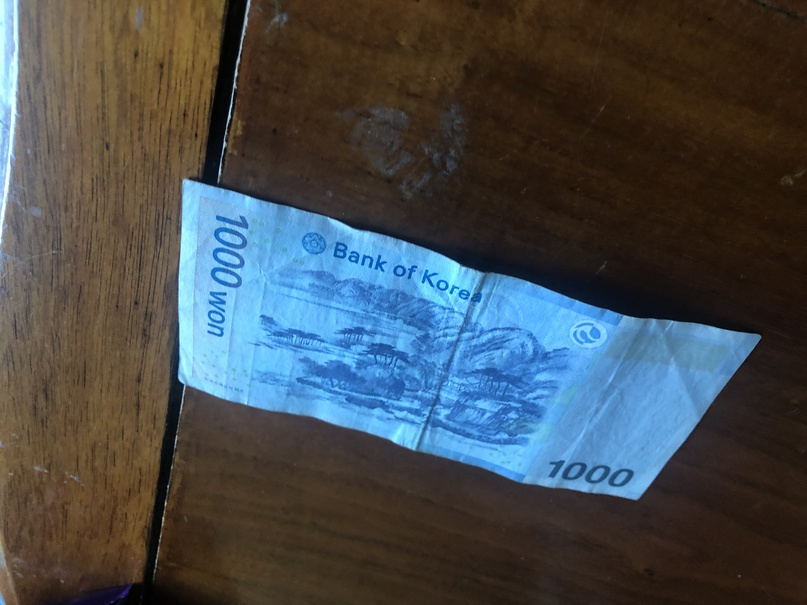1000won: (45, 103, 631, 429)
